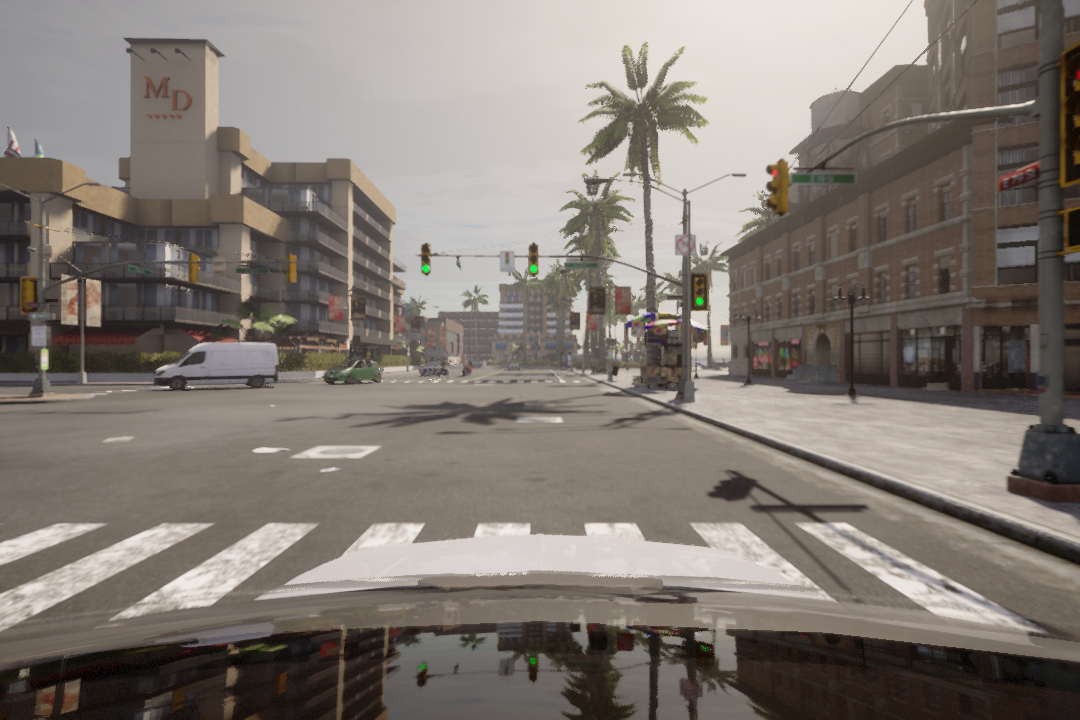TrafficSign: (675, 231, 697, 257)
walkside: (5, 523, 1066, 646), (765, 157, 793, 215), (692, 271, 711, 313), (524, 241, 540, 279), (420, 243, 431, 274)
